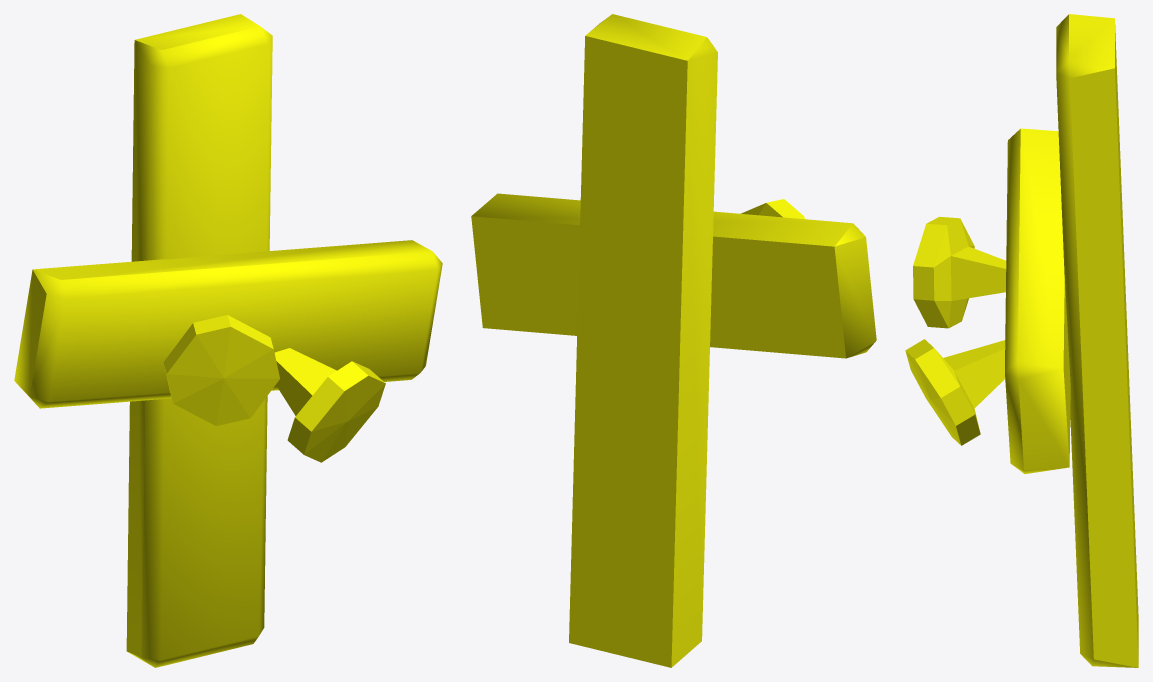
Rendered from kaykit-gravemarker-b.glb.
The picture shows the model from 3 angles, left to right: view 1: azimuth 30°, elevation 25°; view 2: azimuth 150°, elevation 25°; view 3: azimuth 270°, elevation 25°; orthographic projection. The views are drawn at different scales.
Parts seen in each view (by area): view 1: gravemarker_B; view 2: gravemarker_B; view 3: gravemarker_B.
Part boxes in pixels (box(x1,y1,x2,y2)): gravemarker_B: box(14, 14, 442, 667); gravemarker_B: box(471, 14, 876, 667); gravemarker_B: box(905, 14, 1138, 667).
Bounding box in the file's own units: 0.8028 × 1.18 × 0.4131.
